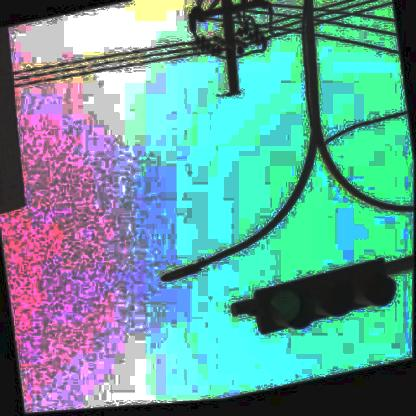Traffic Light -Green-: (254, 268, 397, 340)
